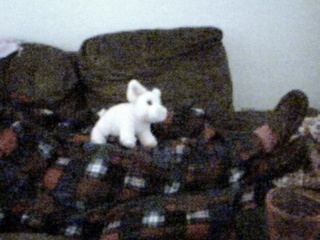piggy: (89, 77, 169, 149)
